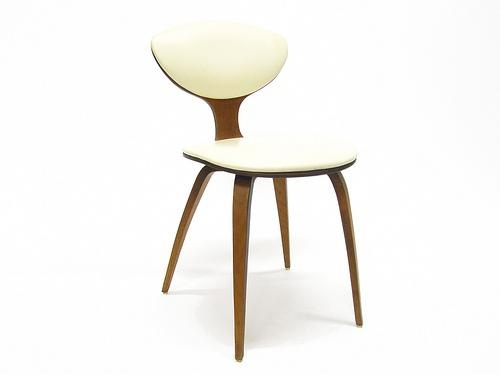obstacle: (151, 22, 362, 360)
